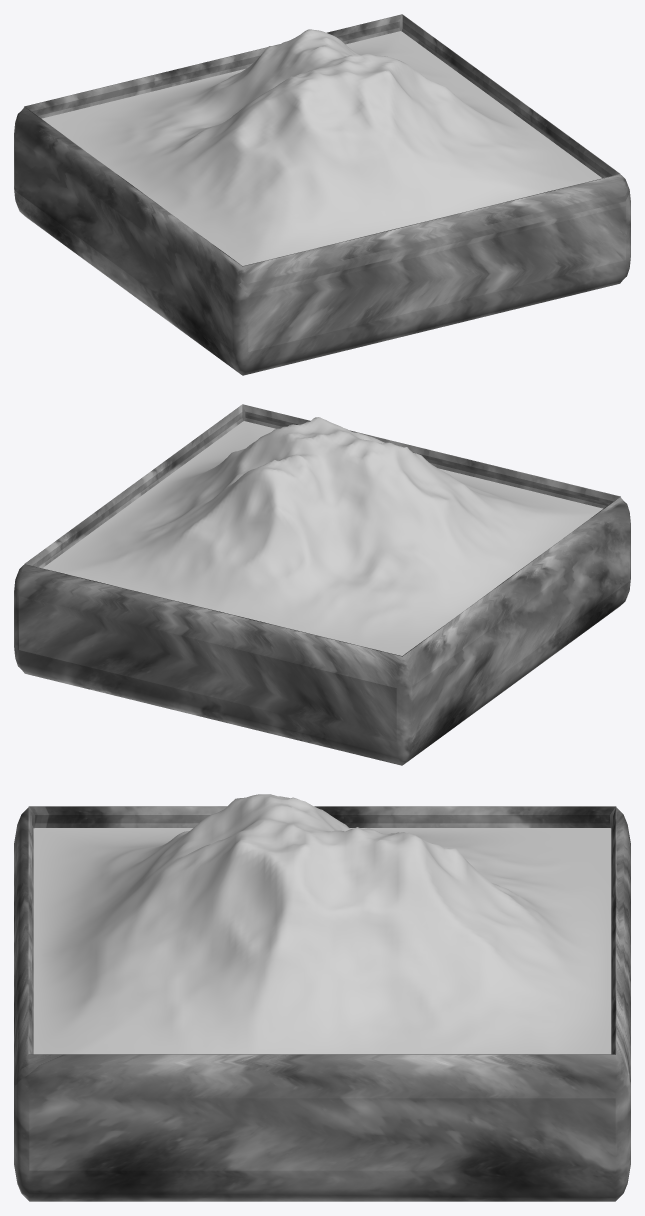
File: Террейн1_2.fbx
3 renders of one model, top to bottom at view 1: azimuth 30°, elevation 25°; view 2: azimuth 150°, elevation 25°; view 3: azimuth 270°, elevation 25°, orthographic. The views are drawn at different scales.
Parts seen in each view (by area): view 1: Cube, Landscape; view 2: Cube, Landscape; view 3: Landscape, Cube.
Part boxes in pixels (x1,y1,x2,y2): Cube: [14, 14, 630, 375]; Landscape: [42, 29, 601, 265]; Cube: [14, 404, 630, 765]; Landscape: [43, 417, 602, 655]; Landscape: [33, 794, 611, 1054]; Cube: [14, 806, 630, 1201].
Bounding box in the file's own units: 814 × 379 × 814.
